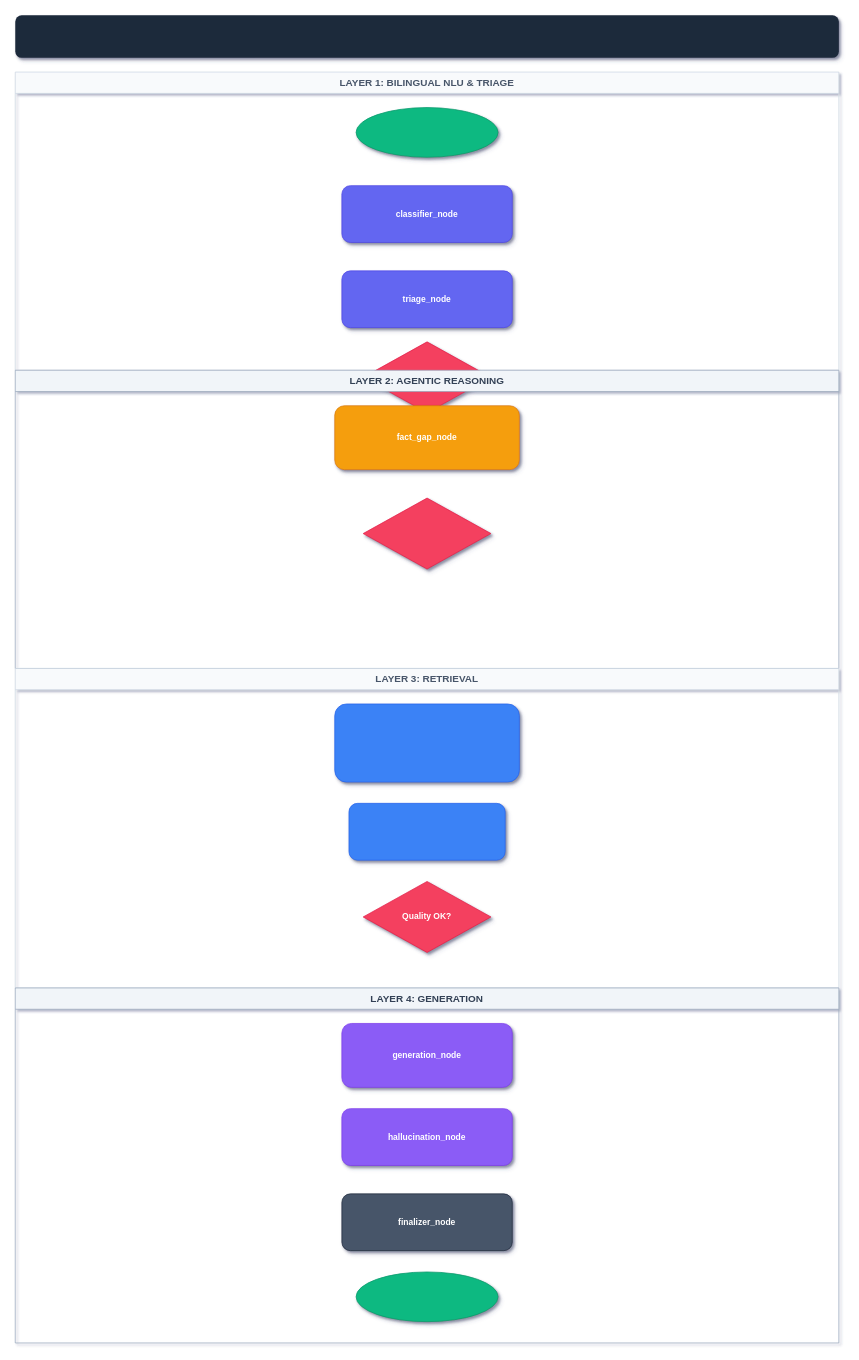
Image size: 859x1360. Some labels were removed from this diagram. The centre of each missing label's shape, as x and y in pixels:
ATTORNEY.AI — PRODUCTION AGENTIC PIPELINE (v1.0): the point at 427,37
FINAL ADVICE: the point at 427,1297
retrieval_grader_node: the point at 427,832
retrieval_node: the point at 427,743
Sufficient?: the point at 427,534
USER QUERY: the point at 427,133
